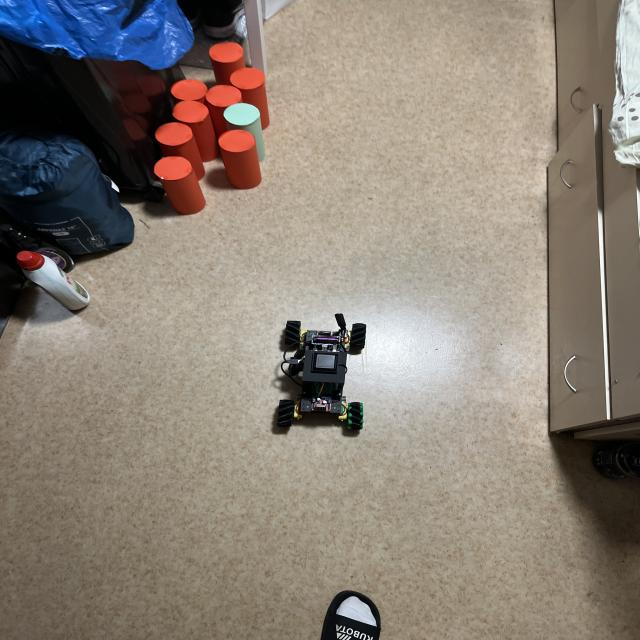robot: (276, 313, 366, 430)
